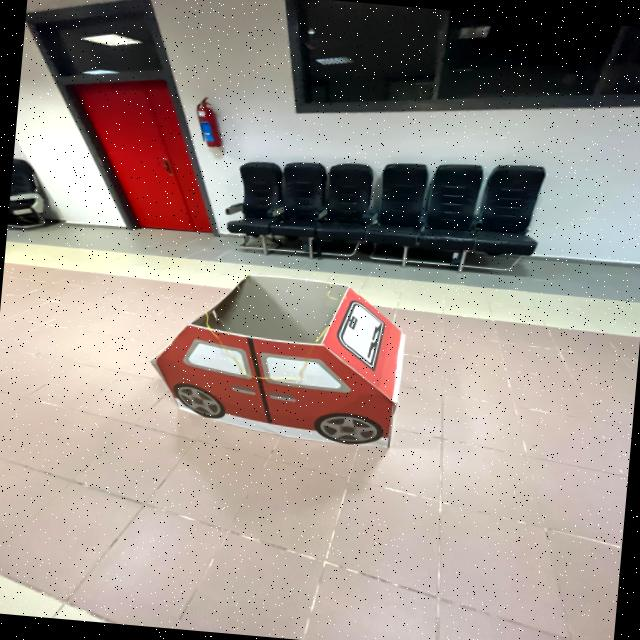red_car: (125, 251, 443, 477)
